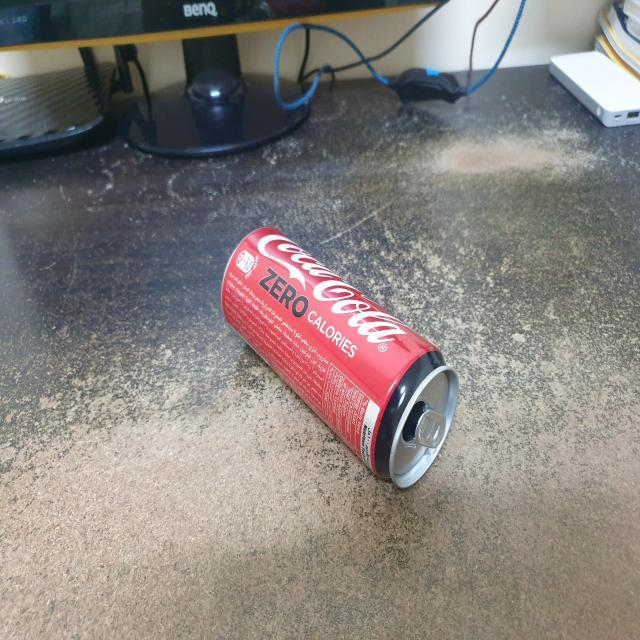can: (215, 222, 466, 498)
